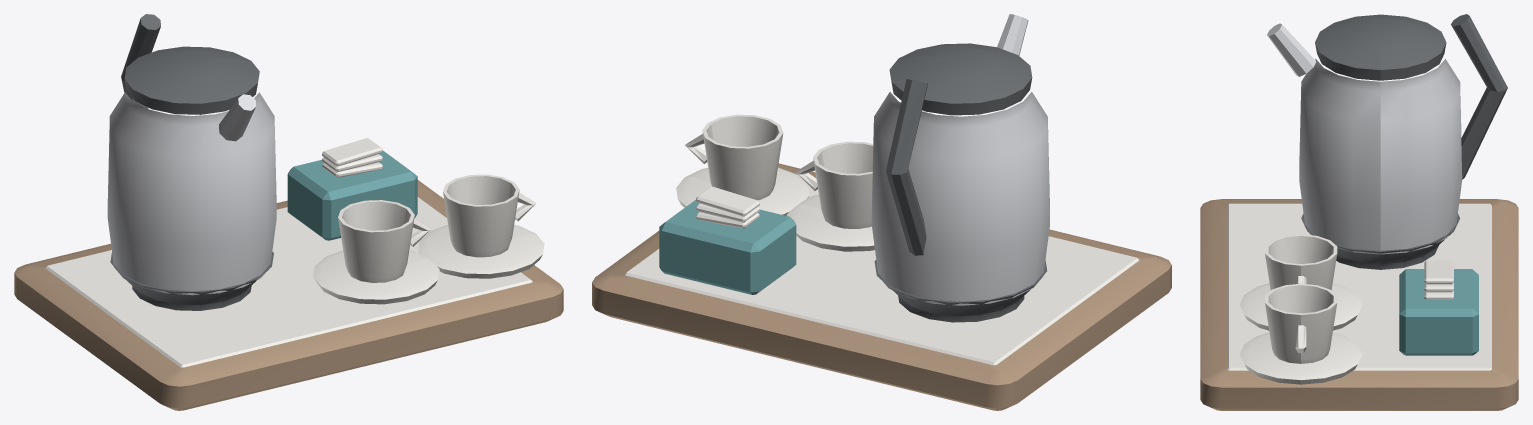
File: hotel-and-resort-operations-kettle-and-tray-set-8d4fc0bf__25766.glb
The picture shows the model from 3 angles, left to right: view 1: azimuth 30°, elevation 25°; view 2: azimuth 150°, elevation 25°; view 3: azimuth 270°, elevation 25°; orthographic projection. The views are drawn at different scales.
Parts seen in each view (by area): view 1: kettle-and-tray-set; view 2: kettle-and-tray-set; view 3: kettle-and-tray-set.
Boxes of the visible parts, x1,y1,x2,y2 form: kettle-and-tray-set: (14, 14, 563, 410); kettle-and-tray-set: (592, 14, 1171, 410); kettle-and-tray-set: (1200, 14, 1518, 410).
Bounding box in the file's own units: 0.438 × 0.2765 × 0.3.
